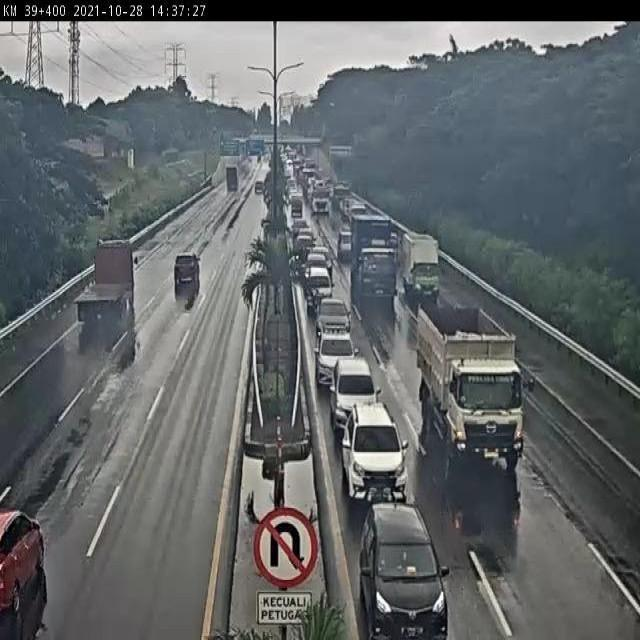car: (363, 502, 444, 632), (344, 406, 406, 502), (333, 358, 379, 419), (168, 253, 205, 295), (314, 298, 348, 338), (305, 249, 330, 279)
truck: (411, 304, 529, 476), (68, 237, 138, 327), (352, 218, 400, 311), (399, 231, 446, 305)
